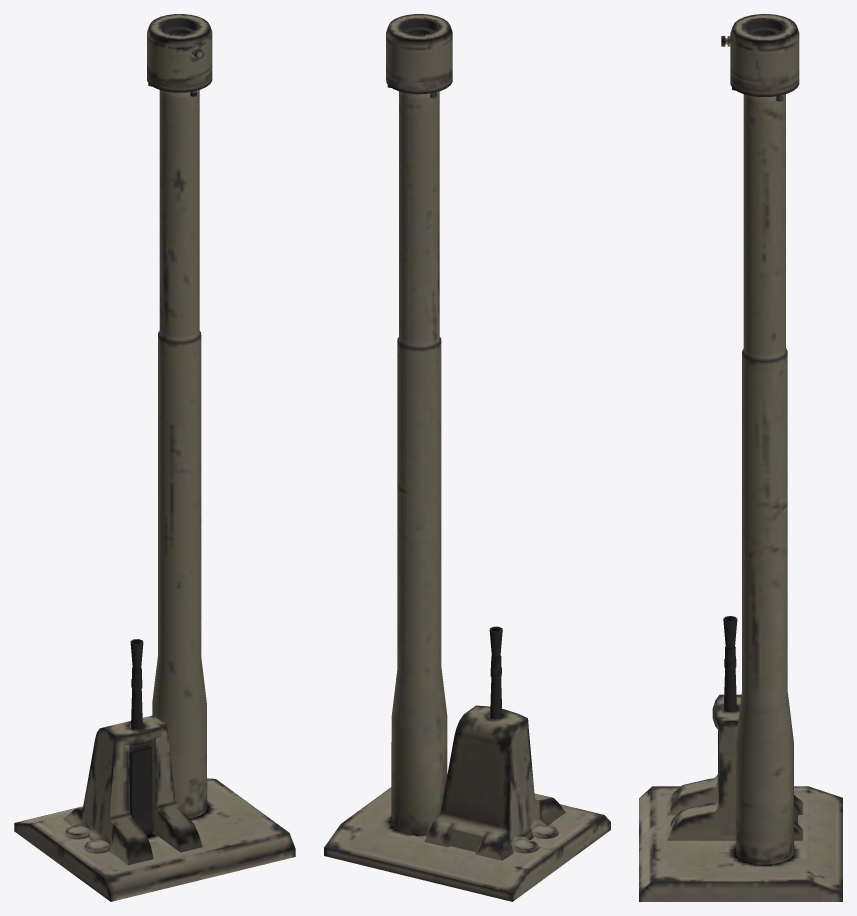
Rendered from Gun_02.glb.
The picture shows the model from 3 angles, left to right: view 1: azimuth 30°, elevation 25°; view 2: azimuth 150°, elevation 25°; view 3: azimuth 270°, elevation 25°; orthographic projection. The views are drawn at different scales.
Visible parts, largest first — view 1: set_0_group_0; view 2: set_0_group_0; view 3: set_0_group_0.
Boxes of the visible parts, x1,y1,x2,y2 form: set_0_group_0: (14,14,295,901); set_0_group_0: (324,14,610,901); set_0_group_0: (639,14,842,901).
Bounding box in the file's own units: 0.5209 × 2.15 × 0.4702.
Materials: 1 (1 with a texture image).
